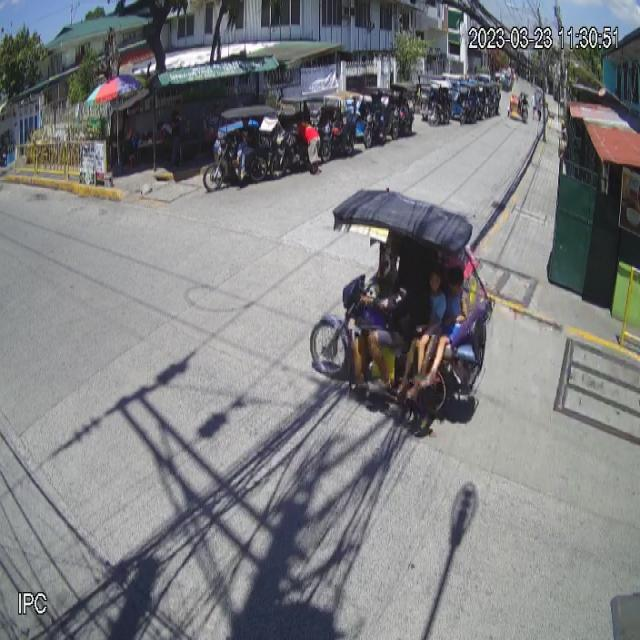Tricycle: (310, 188, 492, 430)
